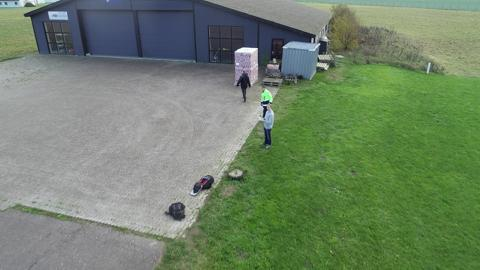RockwoolPallet: (234, 46, 259, 86)
